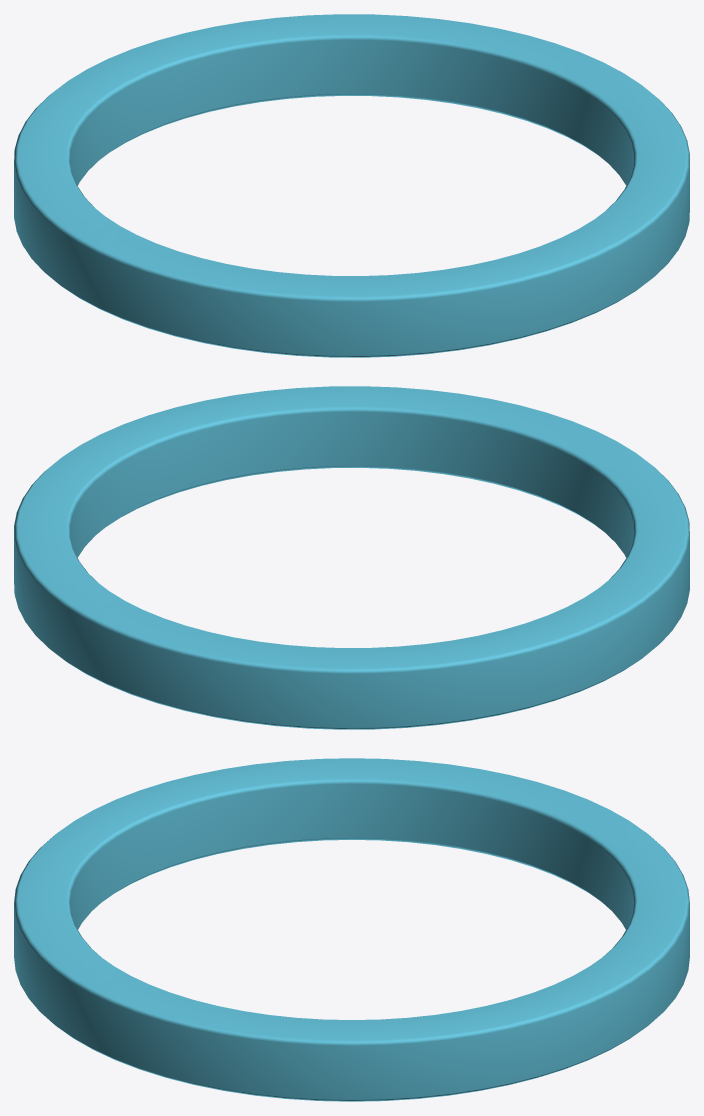
3 views of the same model, one above another, from view 1: azimuth 30°, elevation 25°; view 2: azimuth 150°, elevation 25°; view 3: azimuth 270°, elevation 25° (orthographic).
Parts seen in each view (by area): view 1: seal_body; view 2: seal_body; view 3: seal_body.
Boxes of the visible parts, bbox=[...] form: seal_body: bbox=[14, 14, 689, 357]; seal_body: bbox=[14, 386, 689, 729]; seal_body: bbox=[14, 758, 689, 1101].
Bounding box in the file's own units: 0.12 × 0.012 × 0.12.
